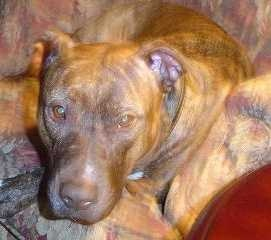dog: (17, 15, 271, 240)
